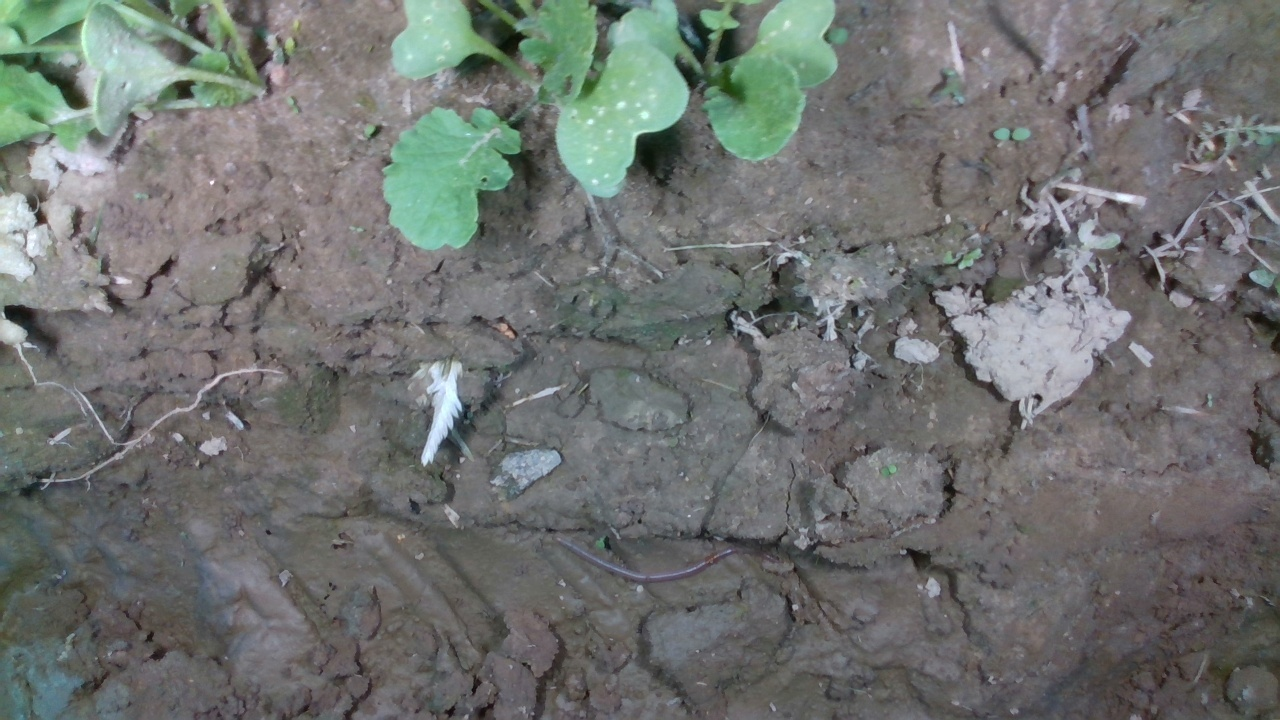weed: (991, 125, 1031, 142), (284, 93, 302, 115)
